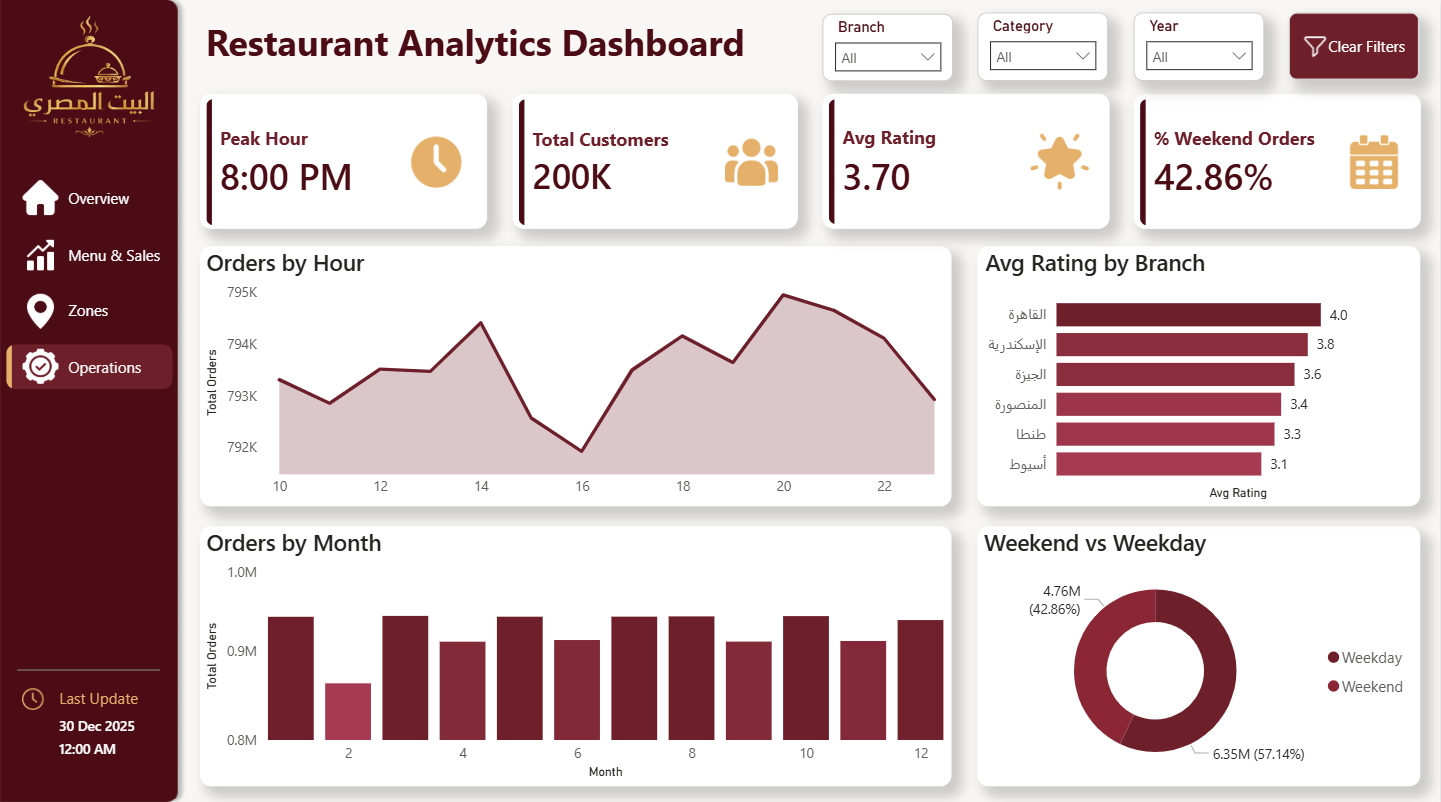

The page's visual inventory and layout, read from the dashboard file:
{"tool":"powerbi","page":{"name":"Operations","canvas":[1280,720],"ordinal":3},"visuals":[{"type":"cardVisual","fields":{"Data":["Page2_Measures.Total Customers"]},"box":[455,83.8,253.8,120],"z":0},{"type":"image","box":[9.1,11.8,140.9,120.9],"z":1000},{"type":"cardVisual","fields":{"Data":["Page4_Measures.Peak Hour Label"]},"box":[177.5,83.8,255,120],"z":2000},{"type":"cardVisual","fields":{"Data":["Page4_Measures.% Weekend Orders"]},"box":[1007.5,83.8,255,120],"z":3000},{"type":"pageNavigator","box":[5.9,155.9,148.2,190],"z":4000},{"type":"image","box":[20.5,159.5,31.9,31.4],"z":5000},{"type":"image","box":[20.5,211,31.9,31.4],"z":6000},{"type":"image","box":[20.5,261,31.9,31.4],"z":7000},{"type":"image","box":[20.5,310.5,31.9,31.4],"z":8000},{"type":"textbox","box":[177.5,12.5,1085,58.8],"z":9000},{"type":"areaChart","title":"Orders by Hour","fields":{"Category":["restaurant_final.hour"],"Y":["Measures_Table.Total Orders"]},"box":[177.9,219.1,668.2,231.2],"z":10000},{"type":"donutChart","title":"Weekend vs Weekday","fields":{"Y":["Page4_Measures.Weekday Orders","Page4_Measures.Weekend Orders"]},"box":[868.8,467.5,393.8,231.2],"z":11000},{"type":"clusteredColumnChart","title":"Orders by Month","fields":{"Category":["restaurant_final.Month"],"Y":["Measures_Table.Total Orders"]},"box":[177.9,467.3,668.2,231.2],"z":12000},{"type":"shape","box":[15.6,583.3,126.7,24.4],"z":13000},{"type":"actionButton","box":[15.5,608.2,28.2,27.3],"z":14000},{"type":"slicer","fields":{"Values":["restaurant_final.branch"]},"box":[731,12,116,60],"z":15000},{"type":"slicer","fields":{"Values":["restaurant_final.category"]},"box":[869.2,10.9,116.2,60.5],"z":16000},{"type":"slicer","fields":{"Values":["restaurant_final.Year"]},"box":[1007.6,10.9,116.2,60.5],"z":17000},{"type":"actionButton","box":[1146,11,116,60],"z":18000},{"type":"textbox","box":[48.1,608.1,94.4,27.5],"z":19000},{"type":"cardVisual","fields":{"Data":["Measures_Table.Last Updated"]},"box":[36,622,106,61.3],"z":20000},{"type":"cardVisual","fields":{"Data":["Measures_Table.Avg Rating"]},"box":[731.1,83.5,255.4,119.8],"z":21000},{"type":"clusteredBarChart","title":"Avg Rating by Branch","fields":{"Category":["restaurant_final.branch"],"Y":["Measures_Table.Avg Rating"]},"box":[868.8,218.8,393.8,231.2],"z":22000}]}

Visuals, with their boxes in screenshot pixels (x1, y1, x2, y2), scaled from the page's 1280x720 canvas onto the 1441x802 screenshot:
cardVisual - Page2_Measures.Total Customers: locate(512, 93, 798, 227)
image: locate(10, 13, 169, 148)
cardVisual - Page4_Measures.Peak Hour Label: locate(200, 93, 487, 227)
cardVisual - Page4_Measures.% Weekend Orders: locate(1134, 93, 1421, 227)
pageNavigator: locate(7, 174, 173, 385)
image: locate(23, 178, 59, 213)
image: locate(23, 235, 59, 270)
image: locate(23, 291, 59, 326)
image: locate(23, 346, 59, 381)
textbox: locate(200, 14, 1421, 79)
"Orders by Hour" areaChart: locate(200, 244, 953, 502)
"Weekend vs Weekday" donutChart: locate(978, 521, 1421, 778)
"Orders by Month" clusteredColumnChart: locate(200, 521, 953, 778)
shape: locate(18, 650, 160, 677)
actionButton: locate(17, 677, 49, 708)
slicer - restaurant_final.branch: locate(823, 13, 954, 80)
slicer - restaurant_final.category: locate(979, 12, 1109, 80)
slicer - restaurant_final.Year: locate(1134, 12, 1265, 80)
actionButton: locate(1290, 12, 1421, 79)
textbox: locate(54, 677, 160, 708)
cardVisual - Measures_Table.Last Updated: locate(41, 693, 160, 761)
cardVisual - Measures_Table.Avg Rating: locate(823, 93, 1111, 226)
"Avg Rating by Branch" clusteredBarChart: locate(978, 244, 1421, 501)
